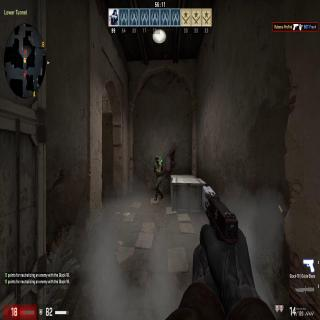CT-Body: (153, 153, 163, 193)
CT-Head: (155, 154, 160, 161)
